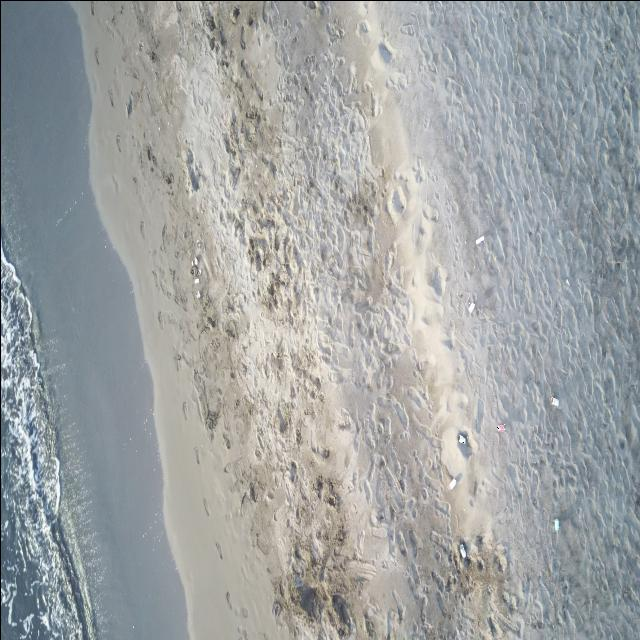Garbage: (457, 432, 471, 457), (190, 264, 200, 276), (460, 543, 466, 559), (467, 301, 475, 312), (447, 477, 455, 488), (553, 517, 559, 531), (475, 235, 484, 243), (457, 433, 464, 443), (551, 396, 557, 406), (192, 256, 198, 266), (497, 423, 504, 431), (196, 240, 203, 247), (195, 289, 200, 298), (193, 276, 199, 283), (564, 279, 568, 284)
